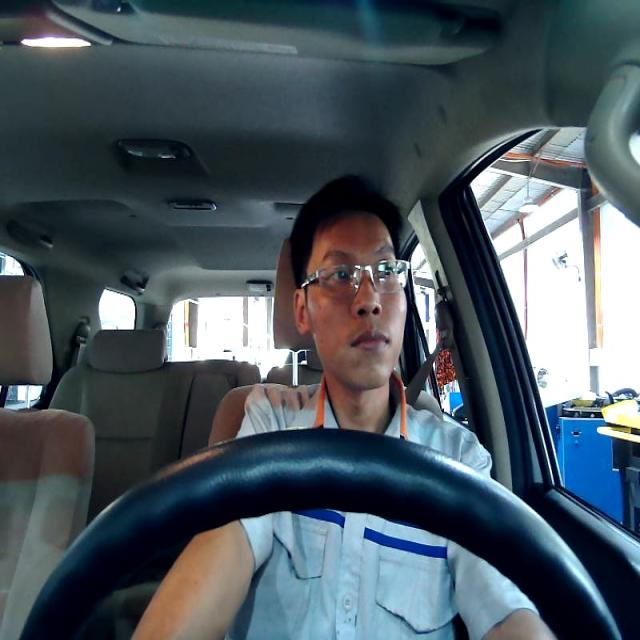focused: (292, 214, 406, 390)
